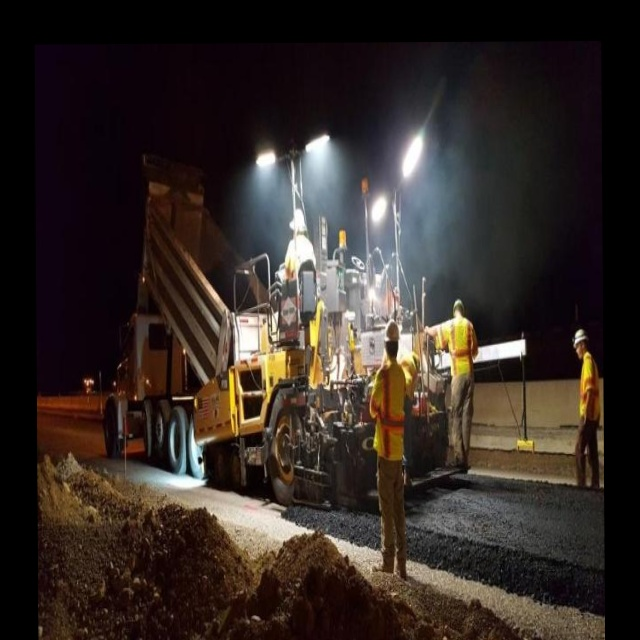Con_Casco: (384, 318, 401, 359)
Con_Chaleco: (374, 363, 406, 460), (578, 354, 601, 436), (450, 316, 477, 384)
